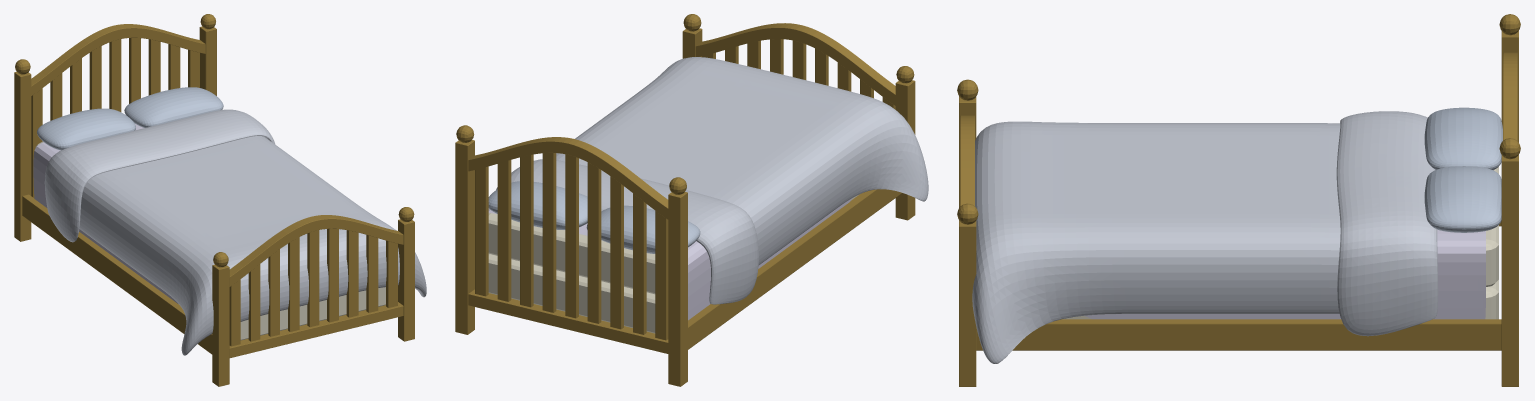
Rendered from sh3d_blendswap_bed_003.glb.
3 views of the same model, side by side, from view 1: azimuth 30°, elevation 25°; view 2: azimuth 150°, elevation 25°; view 3: azimuth 270°, elevation 25° (orthographic). The views are drawn at different scales.
Visible parts, largest first — view 1: couch, structure, pillow, matress, sheet; view 2: structure, couch, matress, pillow, sheet; view 3: couch, structure, pillow, sheet, matress.
Boxes of the visible parts, x1,y1,x2,y2 form: couch: (44, 109, 426, 355); structure: (14, 14, 414, 386); pillow: (37, 87, 223, 150); matress: (35, 141, 385, 340); sheet: (33, 124, 178, 303); structure: (455, 14, 915, 386); couch: (496, 57, 928, 304); matress: (488, 195, 858, 333); pillow: (488, 181, 700, 253); sheet: (488, 198, 852, 320); couch: (972, 111, 1438, 363); structure: (957, 14, 1520, 386); pillow: (1424, 107, 1502, 232); sheet: (1084, 229, 1485, 319); matress: (1062, 166, 1498, 319).
Size of the model in its own units: 1.45 by 1.08 by 2.14.
